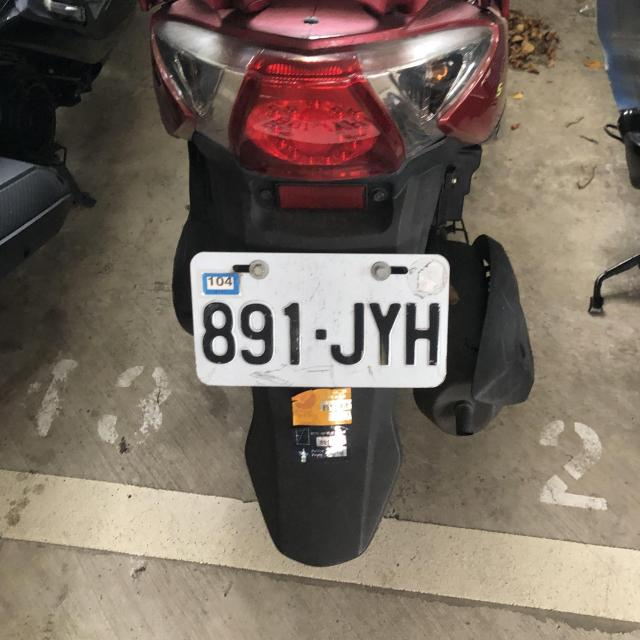W: (185, 247, 454, 395)
